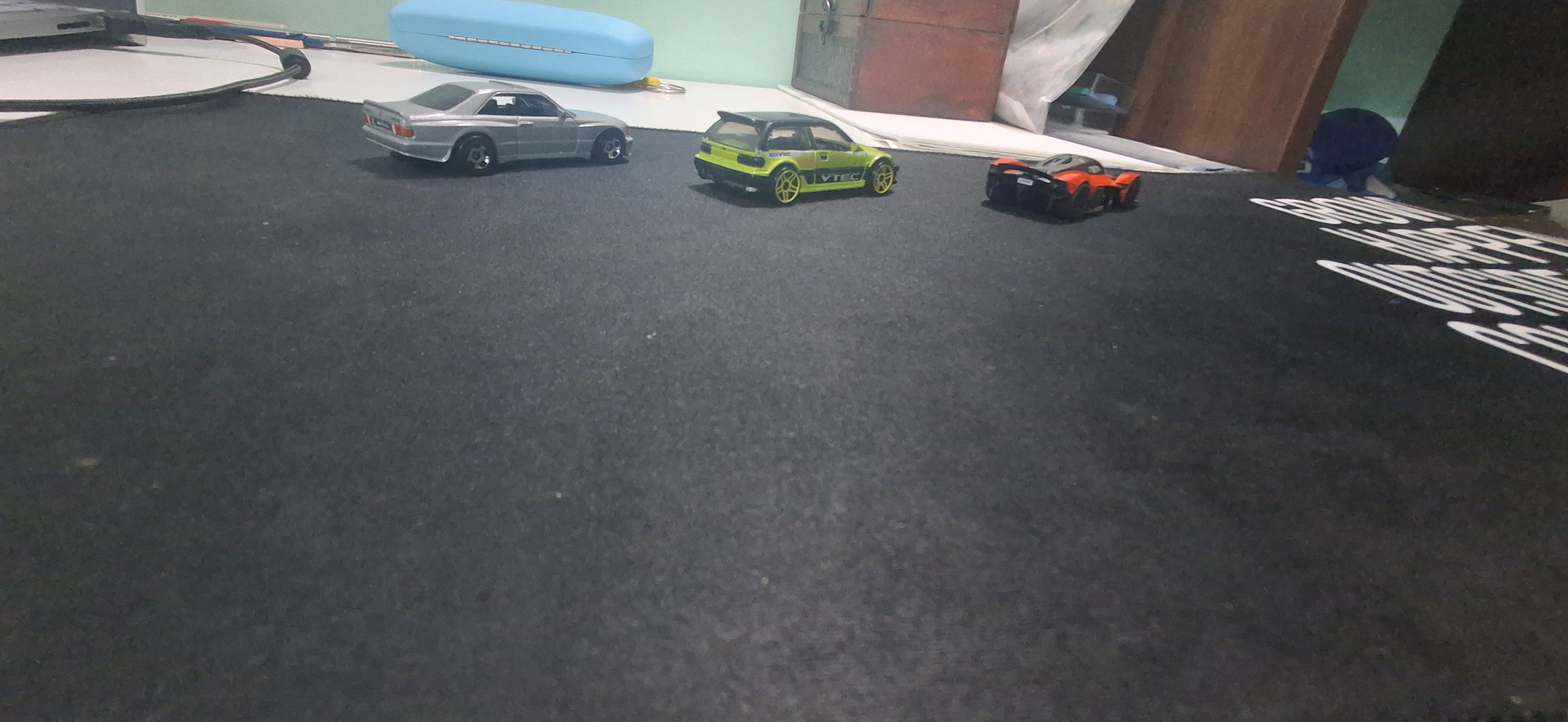Aston_Martin_Valkyrie: (970, 132, 1170, 236)
Honda_Civic: (686, 61, 921, 246)
Mercedes_Benz_560_SEC_AMG: (330, 66, 645, 187)
